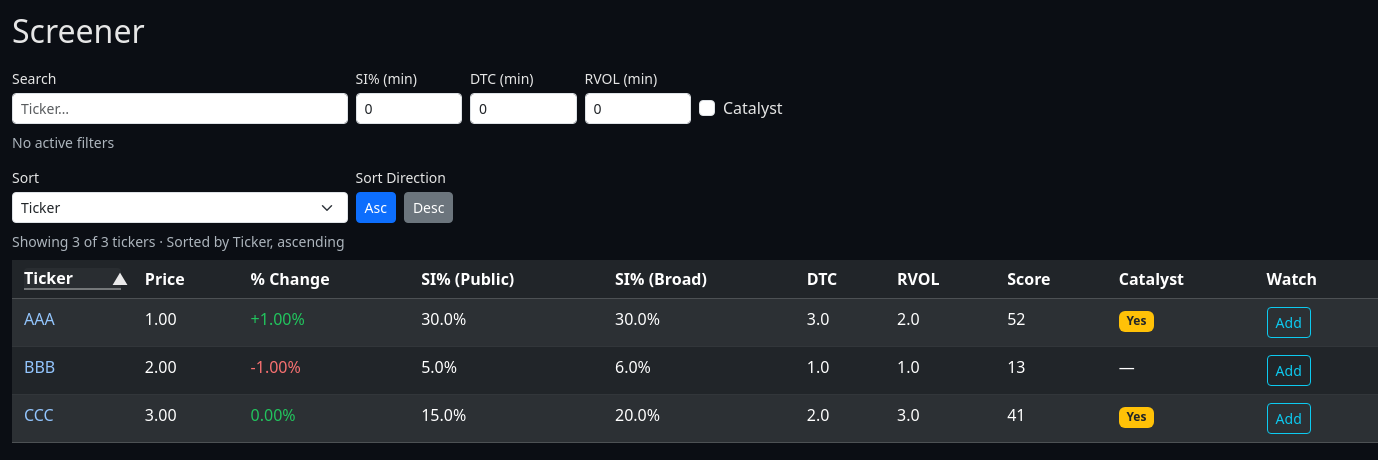
Test case: ScreenerPage toolbar › survives an out-of-range value typed into a filter (written to the URL)
This screenshot has width=1378, height=460.
Replace the text in the number field labelled "SI% (min)" with "150" at (409, 109), box [356,93,462,124]
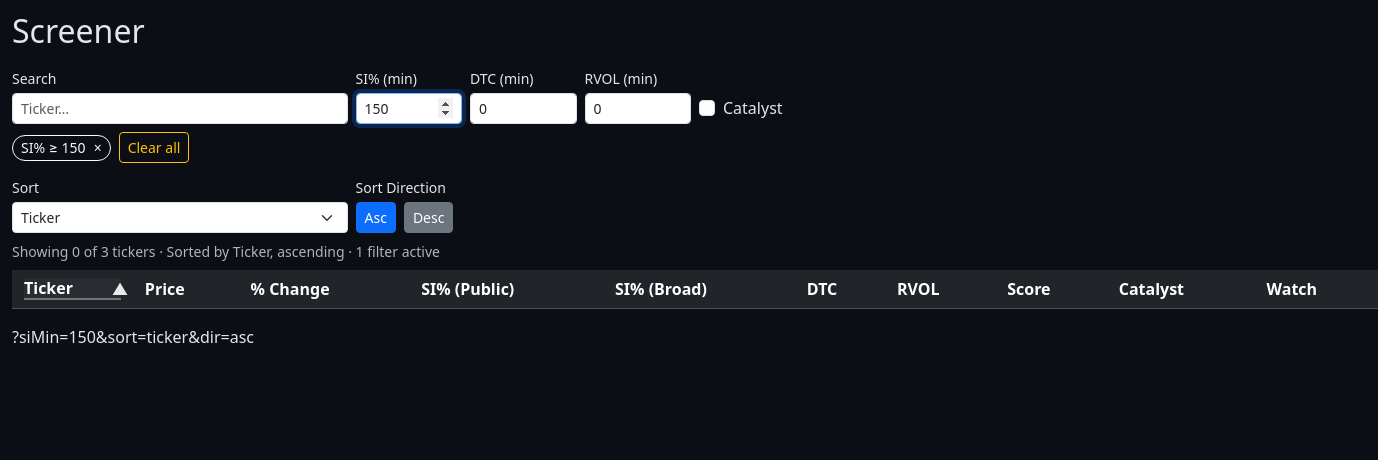
Now the message shows "Showing 0 of 3 tickers", box [12,242,440,261]
